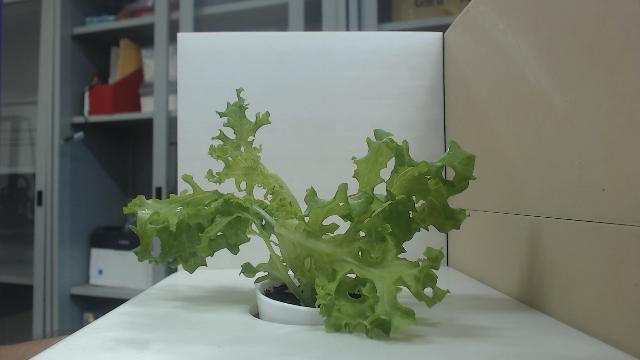Harvest Stage: (121, 86, 477, 340)
